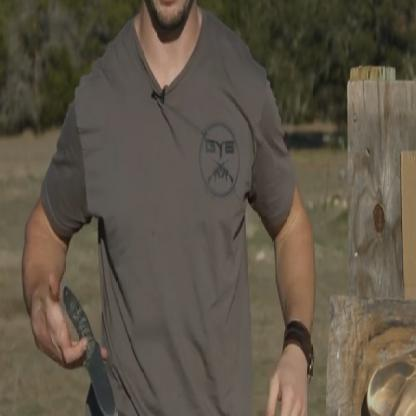knife: (41, 284, 124, 415)
